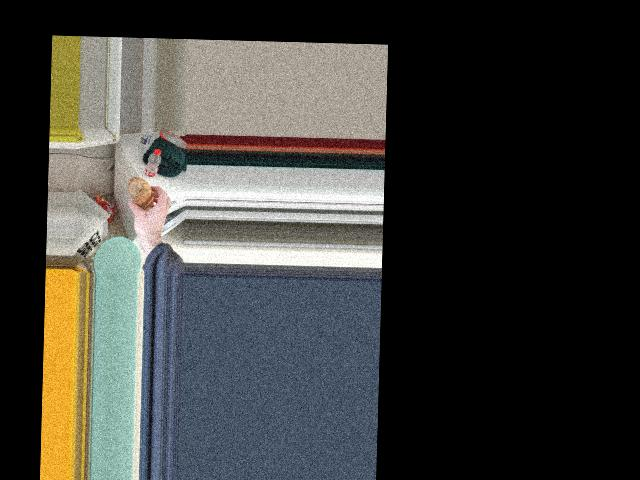sweet_potato: (127, 176, 156, 211)
